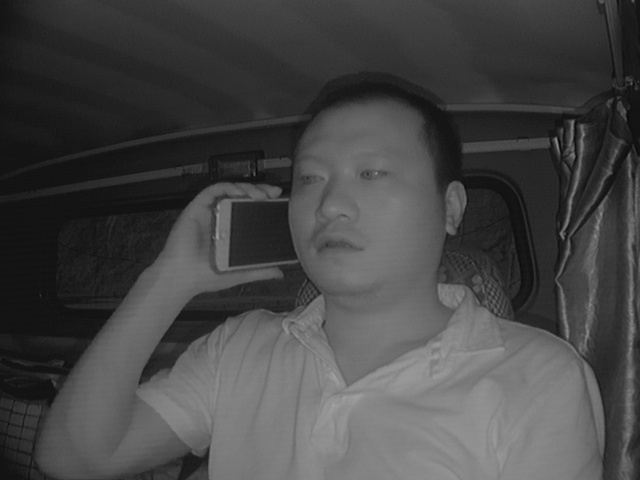hand: (172, 175, 287, 291)
